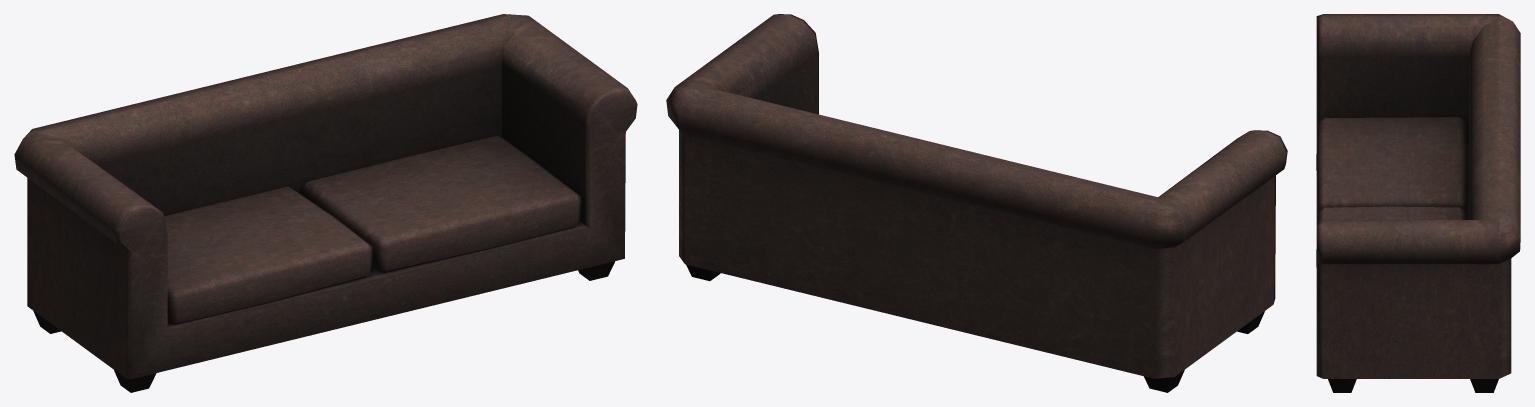
Rendered from Sun_0054_Sofa.fbx.
3 renders of one model, left to right at view 1: azimuth 30°, elevation 25°; view 2: azimuth 150°, elevation 25°; view 3: azimuth 270°, elevation 25°, orthographic. The views are drawn at different scales.
Visible parts, largest first — view 1: Sun_0054_Sofa; view 2: Sun_0054_Sofa; view 3: Sun_0054_Sofa.
Part boxes in pixels (x1,y1,x2,y2): Sun_0054_Sofa: (14, 14, 637, 392); Sun_0054_Sofa: (666, 14, 1287, 392); Sun_0054_Sofa: (1316, 14, 1520, 392).
Size of the model in its own units: 169 by 59.43 by 64.97.
